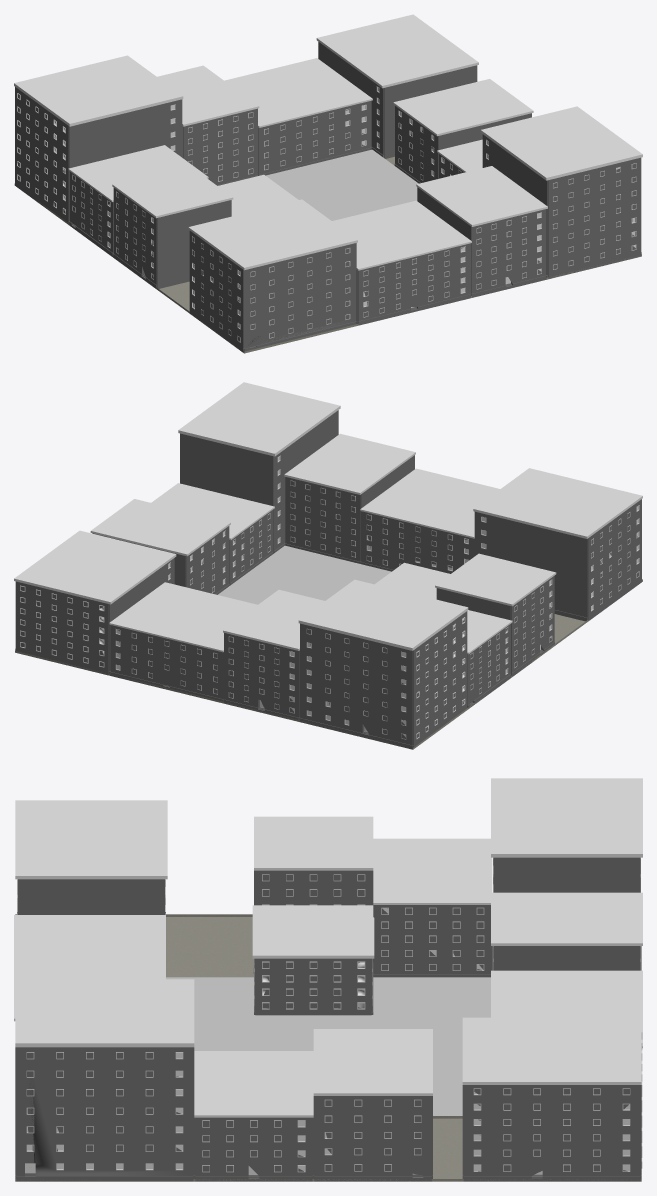
File: Block05.fbx
3 renders of one model, top to bottom at view 1: azimuth 30°, elevation 25°; view 2: azimuth 150°, elevation 25°; view 3: azimuth 270°, elevation 25°, orthographic. The views are drawn at different scales.
Visible parts, largest first — view 1: BC30_F06.005, BC30_F07.006, BC30_F07.007, BR30_F05.002, BR30_F04.005, BC30_F06.003, BR20_F06.003, BR20_F06.008, BR20_F05.009, BR20_F06.007, Courtyard.004, BR20_F05.008 (+3 smaller); view 2: BC30_F07.007, BC30_F06.005, BC30_F06.003, BC30_F07.006, BR30_F04.005, BR20_F06.003, BR30_F05.002, BR20_F06.007, BR20_F06.008, BR20_F05.009, Courtyard.004, BR20_F04.007 (+3 smaller); view 3: BC30_F07.006, BC30_F06.003, BR20_F05.009, BC30_F06.005, BC30_F07.007, BR20_F05.008, Courtyard.004, BR20_F04.007, BD20_F06.009, BR20_F06.007, BR20_F06.008, BR30_F05.002 (+3 smaller).
Part boxes in pixels (x1,y1,x2,y2): BC30_F06.005: [188, 199, 357, 352]; BC30_F07.006: [480, 106, 642, 278]; BC30_F07.007: [14, 55, 183, 223]; BR30_F05.002: [332, 200, 471, 325]; BR30_F04.005: [224, 58, 372, 175]; BC30_F06.003: [316, 14, 478, 158]; BR20_F06.003: [416, 166, 547, 297]; BR20_F06.008: [112, 165, 233, 288]; BR20_F05.009: [393, 79, 533, 183]; BR20_F06.007: [157, 65, 259, 185]; Courtyard.004: [266, 149, 418, 220]; BR20_F05.008: [68, 145, 208, 256]; BC30_F07.007: [298, 579, 468, 749]; BC30_F06.005: [473, 468, 642, 621]; BC30_F06.003: [14, 530, 176, 675]; BC30_F07.006: [178, 382, 340, 553]; BR30_F04.005: [109, 582, 257, 701]; BR20_F06.003: [284, 433, 415, 563]; BR30_F05.002: [360, 468, 499, 573]; BR20_F06.007: [223, 590, 324, 720]; BR20_F06.008: [435, 553, 556, 676]; BR20_F05.009: [90, 499, 230, 594]; Courtyard.004: [218, 545, 391, 604]; BR20_F04.007: [151, 483, 274, 585]; BC30_F07.006: [15, 979, 194, 1181]; BC30_F06.003: [462, 1017, 642, 1181]; BR20_F05.009: [313, 1029, 432, 1181]; BC30_F06.005: [15, 800, 167, 914]; BC30_F07.007: [491, 778, 642, 970]; BR20_F05.008: [373, 838, 492, 977]; Courtyard.004: [166, 977, 490, 1115]; BR20_F04.007: [194, 1051, 313, 1181]; BD20_F06.009: [252, 905, 374, 1015]; BR20_F06.007: [491, 892, 642, 970]; BR20_F06.008: [254, 816, 373, 962]; BR30_F05.002: [14, 915, 165, 968].
Bounding box in the file's own units: 10550 × 2570 × 10550.
